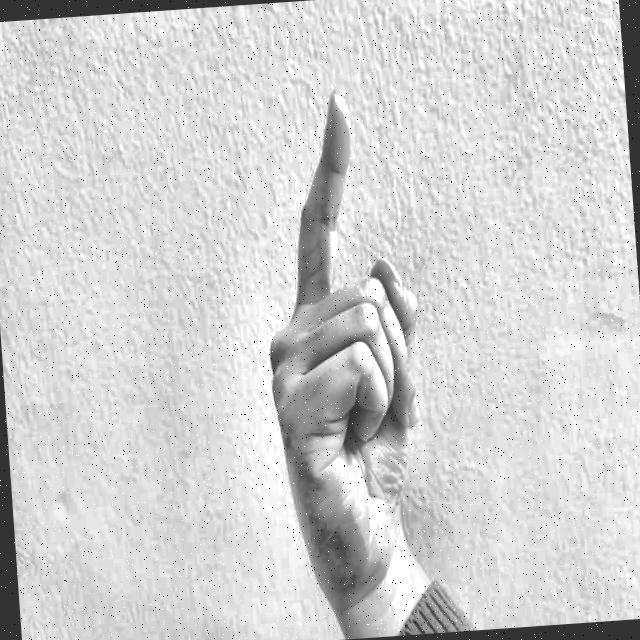U: (217, 63, 445, 582)
